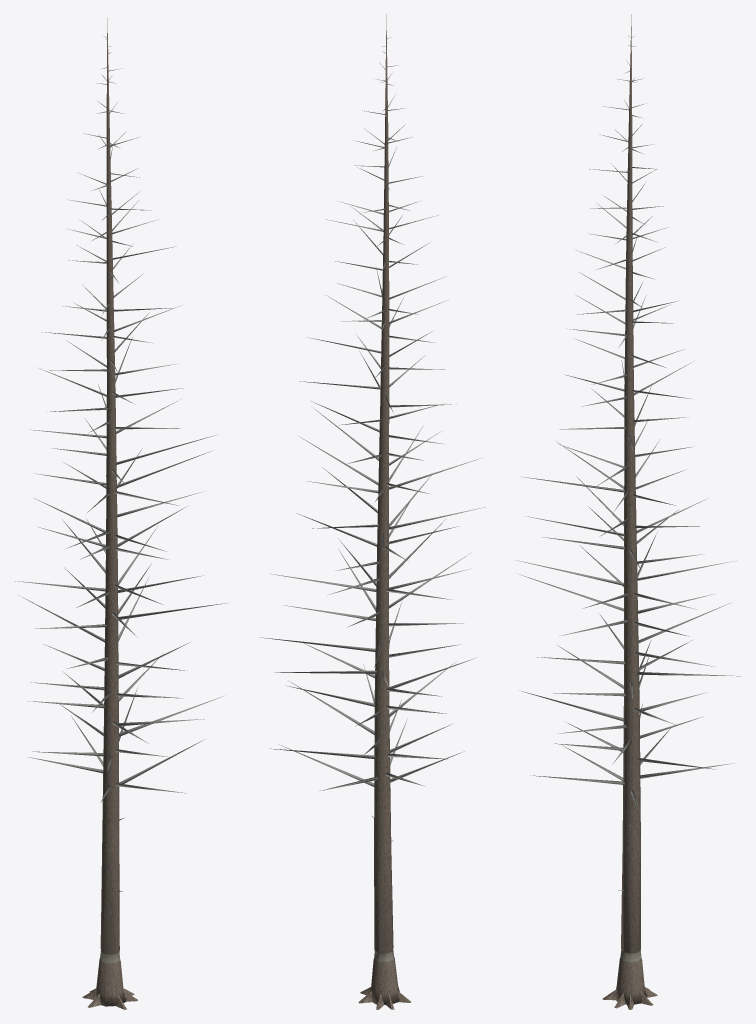
The model's file is Sitka_RingBarked_01_Dead_LOD2.fbx.
3 views of the same model, side by side, from view 1: azimuth 30°, elevation 25°; view 2: azimuth 150°, elevation 25°; view 3: azimuth 270°, elevation 25° (orthographic).
Visible parts, largest first — view 1: Sitka_RingBarked_01_Dead_LOD2_Trunk, Sitka_RingBarked_01_Dead_LOD2_Branches; view 2: Sitka_RingBarked_01_Dead_LOD2_Trunk, Sitka_RingBarked_01_Dead_LOD2_Branches; view 3: Sitka_RingBarked_01_Dead_LOD2_Trunk, Sitka_RingBarked_01_Dead_LOD2_Branches.
Boxes of the visible parts, bbox=[...] form: Sitka_RingBarked_01_Dead_LOD2_Trunk: bbox=[82, 18, 137, 1009]; Sitka_RingBarked_01_Dead_LOD2_Branches: bbox=[15, 36, 229, 915]; Sitka_RingBarked_01_Dead_LOD2_Trunk: bbox=[358, 14, 410, 1009]; Sitka_RingBarked_01_Dead_LOD2_Branches: bbox=[259, 37, 485, 917]; Sitka_RingBarked_01_Dead_LOD2_Trunk: bbox=[602, 14, 657, 1009]; Sitka_RingBarked_01_Dead_LOD2_Branches: bbox=[515, 35, 741, 890].
Bounding box in the file's own units: 521 × 2600 × 546.
